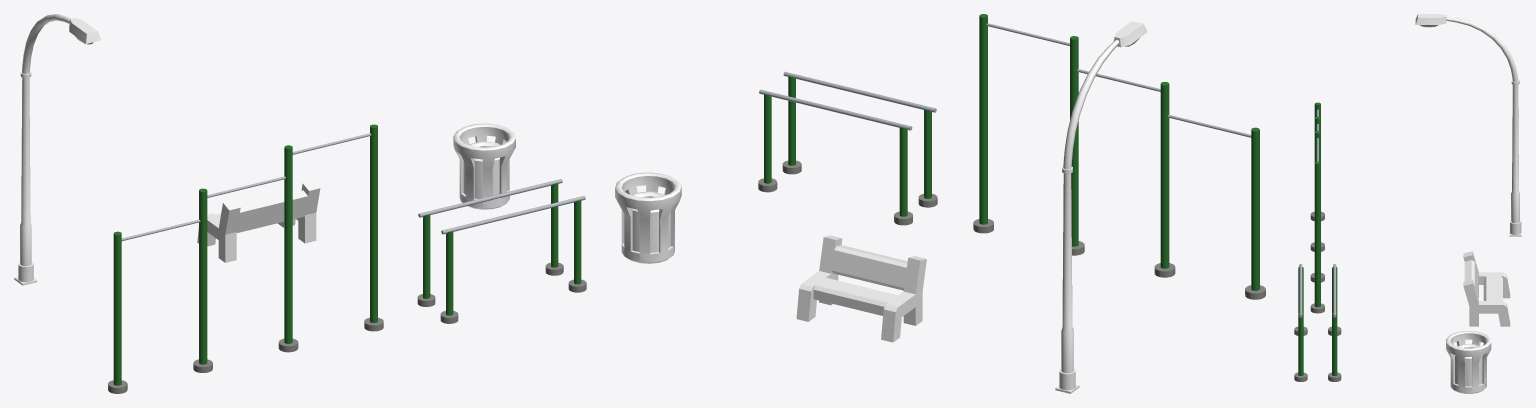
The model's file is combo-fitness-station.glb.
3 views of the same model, side by side, from view 1: azimuth 30°, elevation 25°; view 2: azimuth 150°, elevation 25°; view 3: azimuth 270°, elevation 25° (orthographic). The views are drawn at different scales.
Parts seen in each view (by area): view 1: 00_asset-069, 01_asset-068, 04_asset-074, 02_asset-007, 03_asset-075; view 2: 00_asset-069, 02_asset-007, 01_asset-068, 04_asset-074, 03_asset-075; view 3: 04_asset-074, 02_asset-007, 03_asset-075, 00_asset-069, 01_asset-068.
Part boxes in pixels (x1=…): 00_asset-069: x1=108, y1=124, x2=383, y2=393; 01_asset-068: x1=417, y1=179, x2=586, y2=323; 04_asset-074: x1=453, y1=123, x2=515, y2=209; 02_asset-007: x1=197, y1=180, x2=320, y2=262; 03_asset-075: x1=14, y1=14, x2=101, y2=285; 00_asset-069: x1=973, y1=14, x2=1265, y2=299; 02_asset-007: x1=796, y1=235, x2=926, y2=342; 01_asset-068: x1=758, y1=71, x2=937, y2=225; 04_asset-074: x1=615, y1=172, x2=681, y2=263; 03_asset-075: x1=1055, y1=21, x2=1147, y2=393; 04_asset-074: x1=1446, y1=331, x2=1491, y2=393; 02_asset-007: x1=1463, y1=251, x2=1510, y2=326; 03_asset-075: x1=1415, y1=14, x2=1521, y2=236; 00_asset-069: x1=1310, y1=102, x2=1324, y2=313; 01_asset-068: x1=1294, y1=264, x2=1341, y2=381.
Size of the model in its own units: 7.09 by 3.99 by 3.77.
